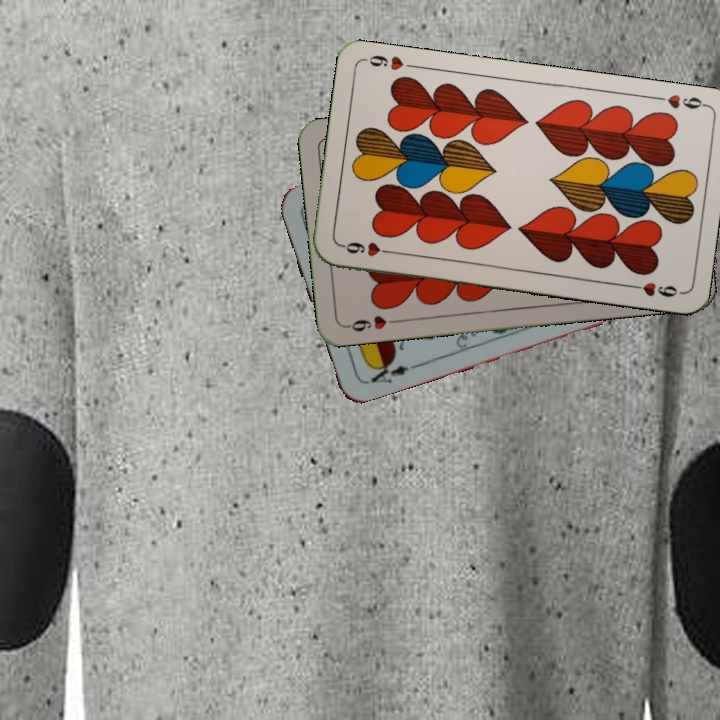EA: (360, 356, 418, 387)
H9: (342, 311, 401, 334), (649, 90, 708, 112), (337, 238, 396, 259)
